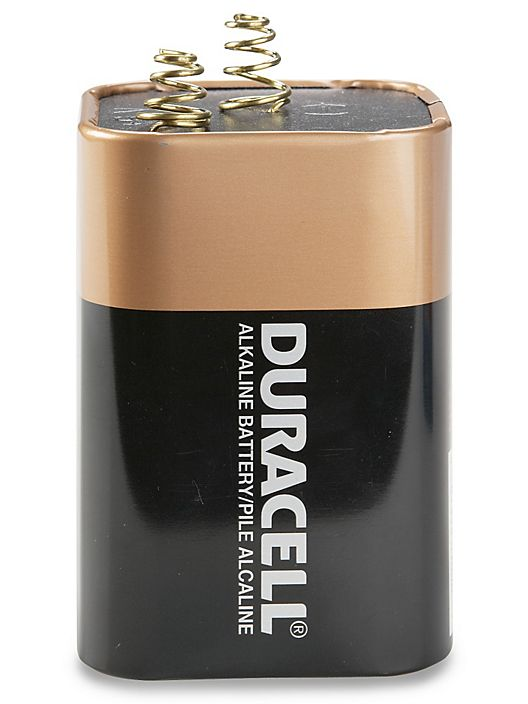6V: (68, 16, 462, 685)
